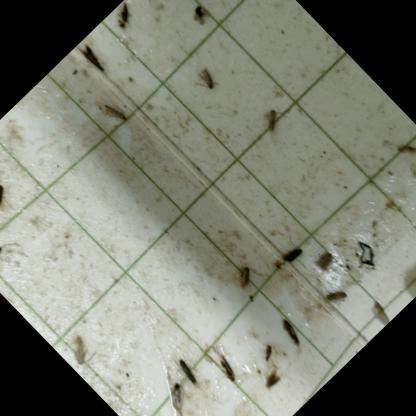prays_oleae: (48, 318, 112, 382), (145, 366, 203, 416), (252, 95, 304, 149), (210, 354, 256, 400), (222, 258, 268, 304), (72, 36, 116, 82), (272, 315, 314, 357), (171, 354, 212, 396), (308, 239, 348, 279), (96, 94, 134, 132), (181, 0, 222, 35), (322, 278, 358, 314), (189, 61, 225, 97), (111, 0, 147, 33), (279, 240, 313, 273), (0, 173, 23, 218), (256, 368, 288, 399), (252, 339, 278, 365)
